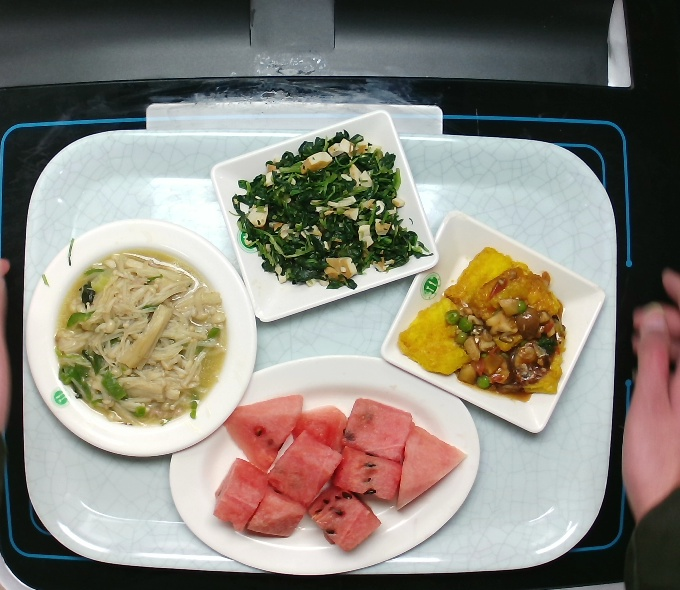wcq-CuiPiDouFu: (394, 244, 567, 402)
wcq-JinZhenGu: (54, 243, 228, 427)
wcq-MaLanTouChaoDouGan: (231, 129, 431, 290)
wcq-XiGua: (208, 393, 466, 552)
